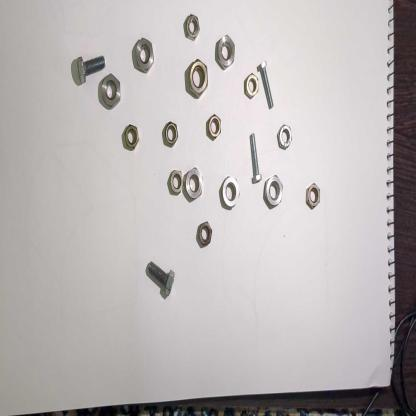Bolts: (145, 258, 176, 300), (256, 59, 276, 112), (74, 53, 106, 85), (247, 129, 263, 188)
NUTS: (184, 58, 208, 101), (99, 71, 123, 111), (264, 171, 284, 212), (220, 172, 240, 213), (215, 32, 236, 70), (134, 35, 154, 73), (184, 167, 206, 200), (195, 221, 216, 250), (168, 167, 184, 203), (124, 120, 140, 154), (184, 10, 200, 41), (277, 122, 293, 153), (306, 180, 323, 209), (244, 71, 260, 101), (207, 112, 223, 140), (164, 120, 179, 148)
